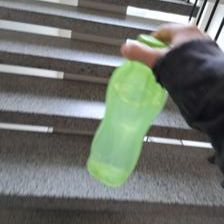bottle: (83, 32, 172, 189)
